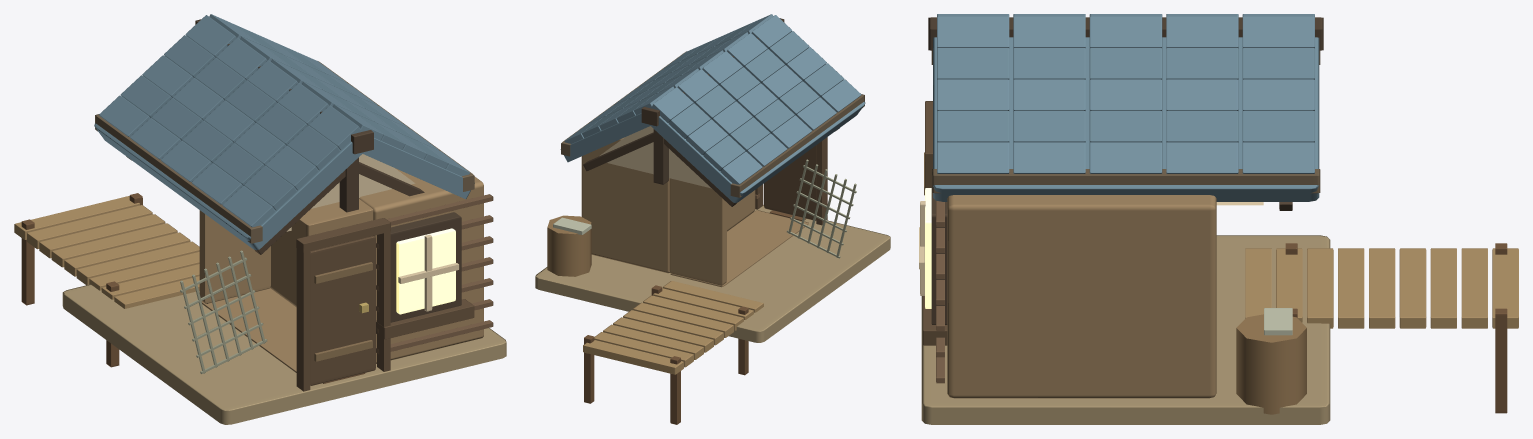
The model's file is fishinghut-2.glb.
The picture shows the model from 3 angles, left to right: view 1: azimuth 30°, elevation 25°; view 2: azimuth 150°, elevation 25°; view 3: azimuth 270°, elevation 25°; orthographic projection. The views are drawn at different scales.
Visible parts, largest first — view 1: fishinghut-2-0, door-hinge; view 2: fishinghut-2-0, door-hinge; view 3: fishinghut-2-0.
Boxes of the visible parts, box(x1,y1,x2,y2) form: fishinghut-2-0: box(14, 14, 506, 424); door-hinge: box(310, 236, 375, 385); fishinghut-2-0: box(535, 14, 890, 424); door-hinge: box(764, 145, 816, 220); fishinghut-2-0: box(919, 14, 1518, 424).
Size of the model in its own units: 1.87 by 1.97 by 2.72.
